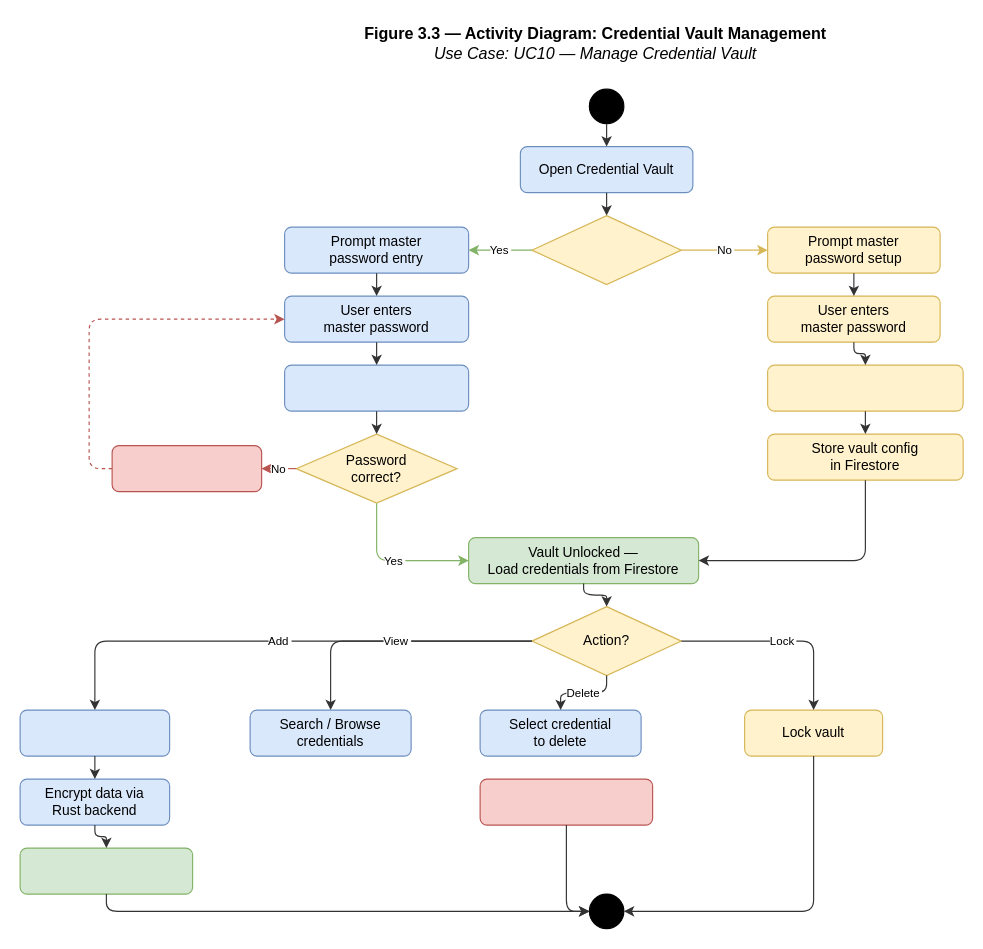
This 983x949 diagram has some shape labels left out. Here are the shapes that lost their labels. From the top down, the box of each, then its label:
(531, 214, 681, 285): Vault initialized?
(283, 364, 469, 411): Decrypt verification string via Rust
(766, 364, 963, 411): Encrypt verification string via Rust (AES-256-GCM)
(111, 444, 262, 492): Show error: wrong password
(19, 709, 170, 756): Fill credential form
(479, 778, 653, 825): Delete from Firestore
(19, 847, 193, 894): Save to Firestore (users/{uid}/vault)
